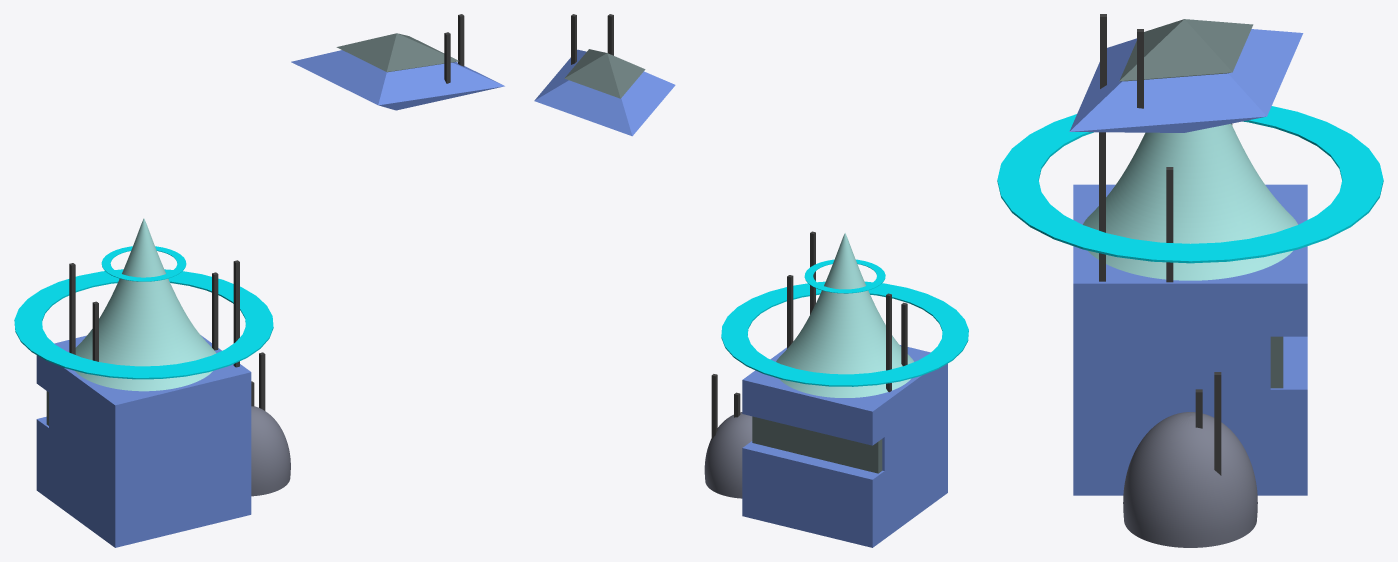
File: Scifi4.fbx
3 views of the same model, side by side, from view 1: azimuth 30°, elevation 25°; view 2: azimuth 150°, elevation 25°; view 3: azimuth 270°, elevation 25° (orthographic). The views are drawn at different scales.
Visible parts, largest first — view 1: Haus, Dach, Drehdinggroß, Ufo1, Nebending, Ufo2, Drehding, Antenne1, Antenne3; view 2: Haus, Dach, Drehdinggroß, Ufo1, Fenster, Nebending, Ufo2, Drehding; view 3: Haus, Dach, Drehdinggroß, Nebending, Ufo1, Ufo2, Antenne3, Antenne5, Antenne4, Fenster, Antenne7, Antenne7.001.
Part boxes in pixels (x1,y1,x2,y2): Haus: (36, 335, 251, 547); Dach: (75, 218, 216, 391); Drehdinggroß: (14, 269, 273, 379); Ufo1: (291, 50, 504, 110); Nebending: (251, 406, 290, 496); Ufo2: (336, 33, 458, 72); Drehding: (101, 246, 186, 281); Antenne1: (69, 263, 75, 354); Antenne3: (233, 260, 239, 367); Haus: (742, 345, 947, 547); Dach: (776, 233, 913, 397); Drehdinggroß: (721, 281, 968, 386); Ufo1: (534, 49, 675, 136); Fenster: (752, 416, 882, 473); Nebending: (704, 412, 752, 498); Ufo2: (564, 49, 645, 98); Drehding: (804, 259, 885, 293); Haus: (1073, 184, 1307, 495); Dach: (1083, 124, 1297, 280); Drehdinggroß: (997, 106, 1383, 263); Nebending: (1123, 412, 1257, 547); Ufo1: (1069, 29, 1303, 132); Ufo2: (1119, 19, 1253, 81); Antenne3: (1099, 132, 1105, 281); Antenne5: (1214, 372, 1221, 475); Antenne4: (1166, 167, 1173, 282); Fenster: (1270, 336, 1283, 388); Antenne7: (1137, 29, 1143, 108); Antenne7.001: (1100, 14, 1106, 88).
Size of the model in its own units: 636 by 598 by 330.
